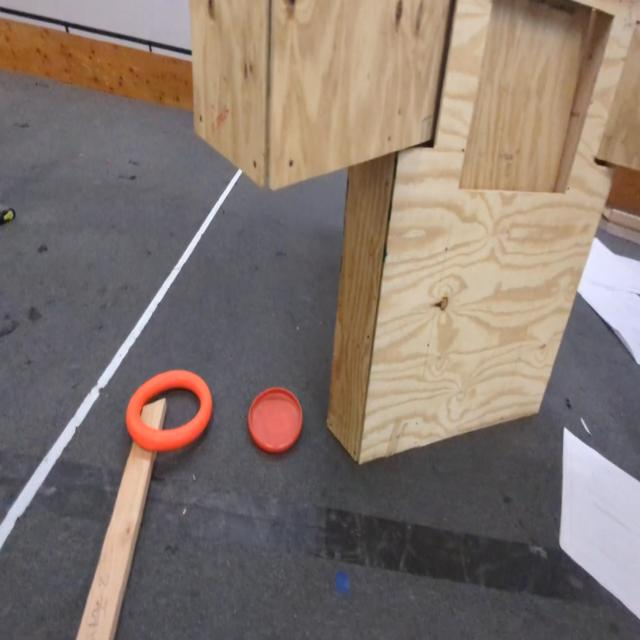note: (129, 372, 216, 450)
